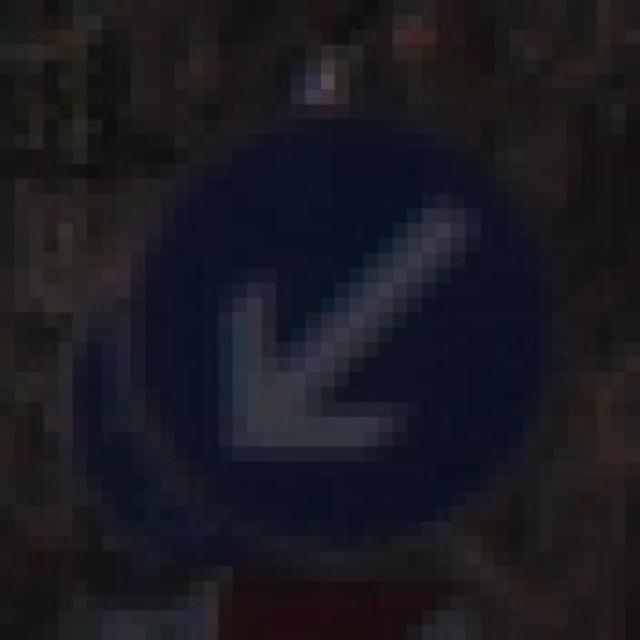Keep-Left: (145, 74, 553, 580)
